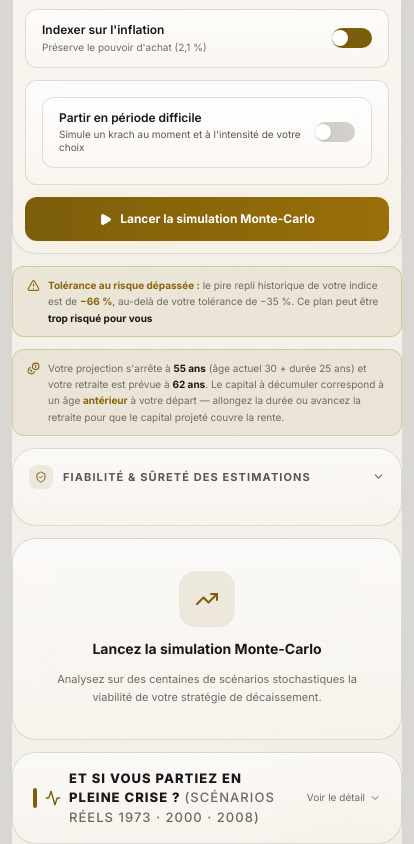
Test: fiabilité v5.5.0 — RenteRetraiteTab : options, CI et stress tests › les 4 options de fiabilité sont COCHÉES par défaut
(page scrolled)
Note: Le panneau est replié par défaut : on le déplie pour inspecter les toggles.
What coordinates should you click on to do the following:
click the button "Fiabilité & sûreté des estimations"
I would click on:
 (207, 477)
Its box is [29,465,385,489].
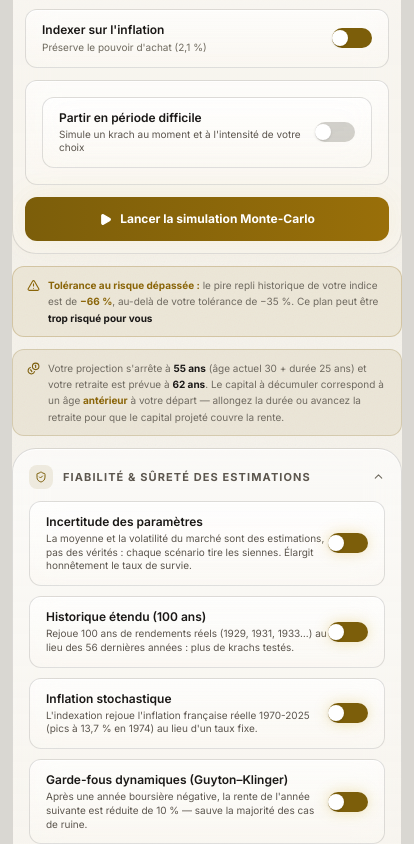
Check: the switch labelled "Incertitude des paramètres" is checked, box [29,501,385,586]
Check: the switch labelled "Historique étendu" is checked, box [29,596,385,668]
Check: the switch labelled "Inflation stochastique" is checked, box [29,678,385,749]
